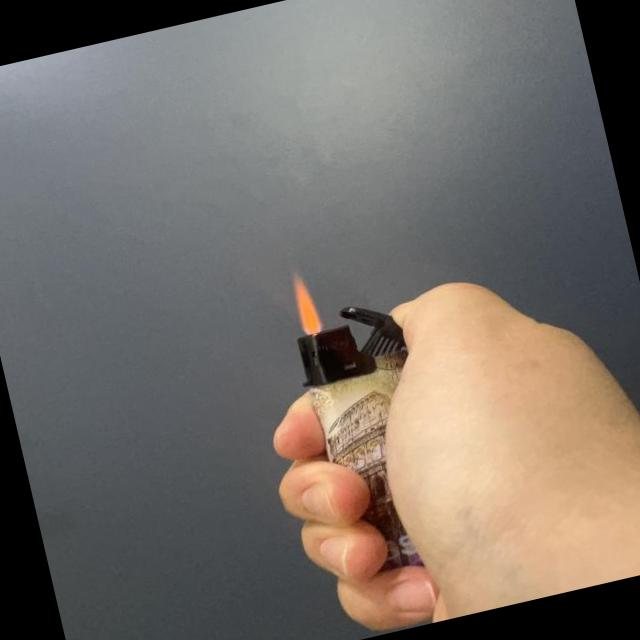Fire: (282, 264, 325, 339)
